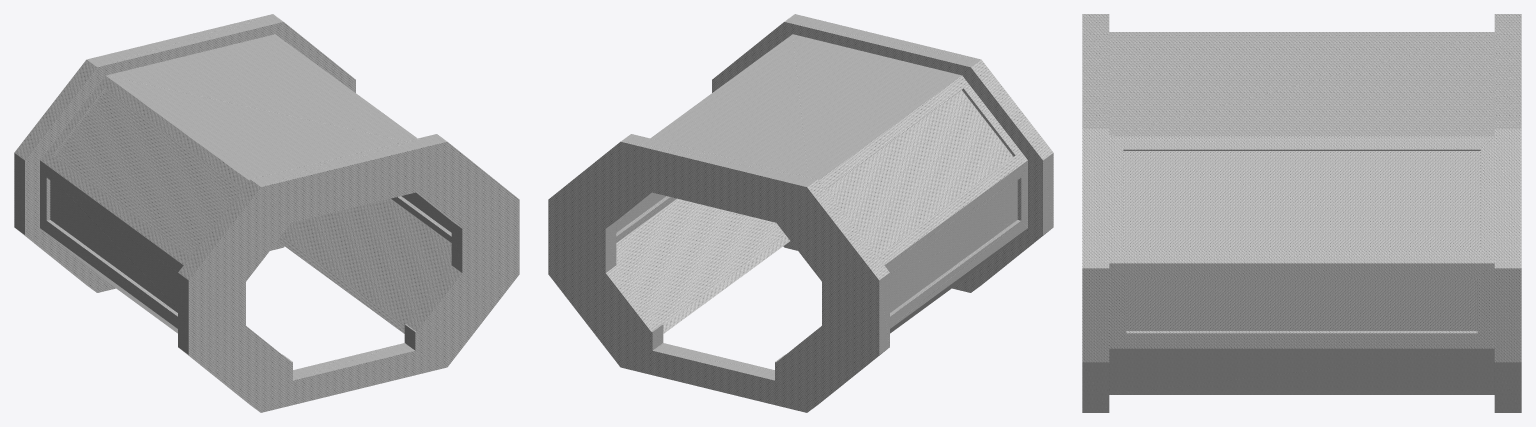
The model's file is 2Exit.fbx.
3 views of the same model, side by side, from view 1: azimuth 30°, elevation 25°; view 2: azimuth 150°, elevation 25°; view 3: azimuth 270°, elevation 25° (orthographic). The views are drawn at different scales.
Visible parts, largest first — view 1: Group1; view 2: Group1; view 3: Group1.
Part boxes in pixels (x1=…): Group1: x1=14, y1=14, x2=519, y2=412; Group1: x1=548, y1=14, x2=1053, y2=412; Group1: x1=1082, y1=14, x2=1521, y2=412.
Size of the model in its own units: 5.5 by 3.59 by 5.02.
